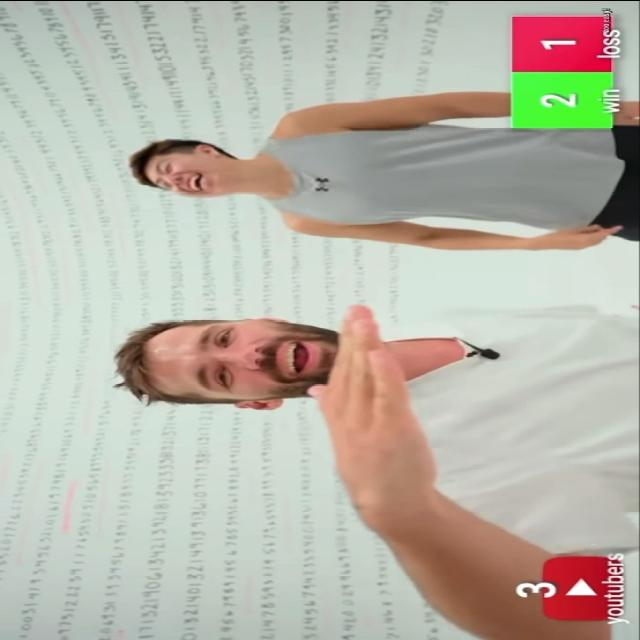Paper: (306, 305, 428, 525)
